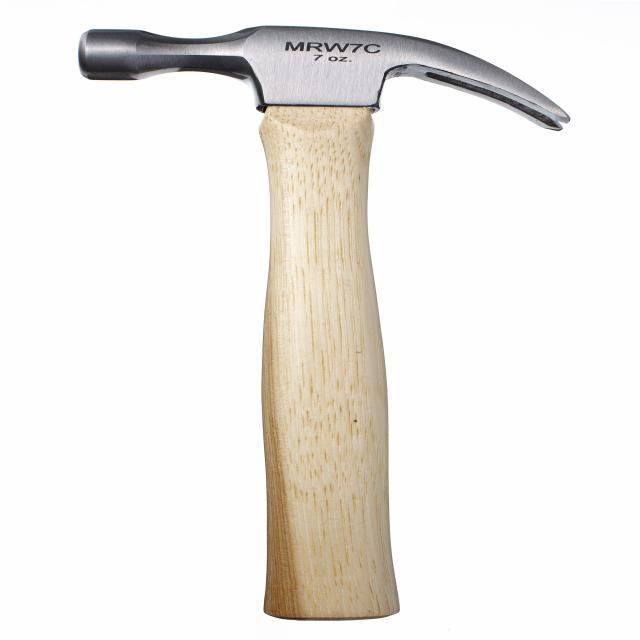hammer: (66, 3, 590, 639)
